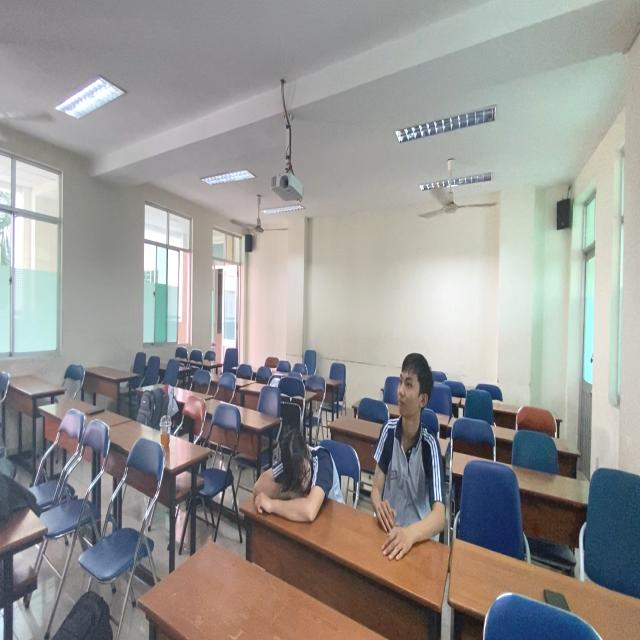sleep: (247, 426, 343, 534)
